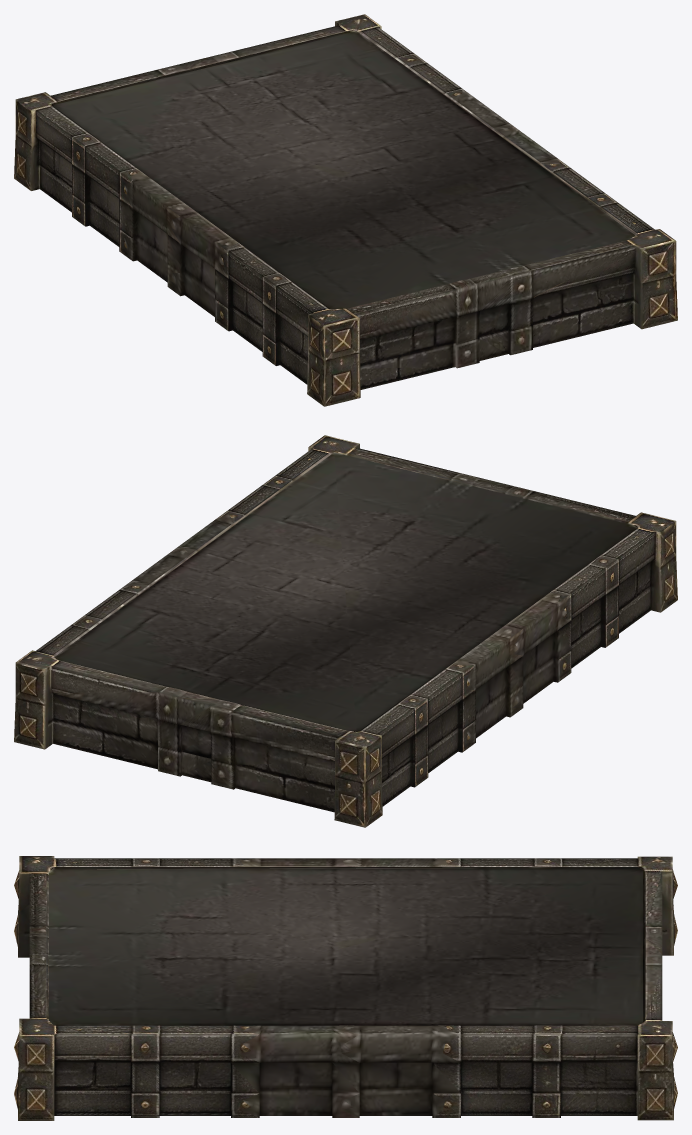
Rendered from ignivar_prop_bridge_floor.glb.
3 views of the same model, one above another, from view 1: azimuth 30°, elevation 25°; view 2: azimuth 150°, elevation 25°; view 3: azimuth 270°, elevation 25° (orthographic). The views are drawn at different scales.
Parts seen in each view (by area): view 1: bridge_floor; view 2: bridge_floor; view 3: bridge_floor.
Part boxes in pixels (x1,y1,x2,y2): bridge_floor: (14, 14, 677, 406); bridge_floor: (14, 435, 677, 827); bridge_floor: (14, 856, 677, 1120).
Size of the model in its own units: 0.6582 by 0.1425 by 0.998.
Materials: 1 (1 with a texture image).
